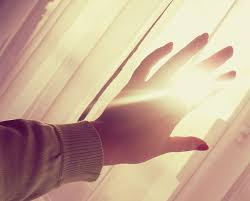hand: (88, 24, 238, 160)
